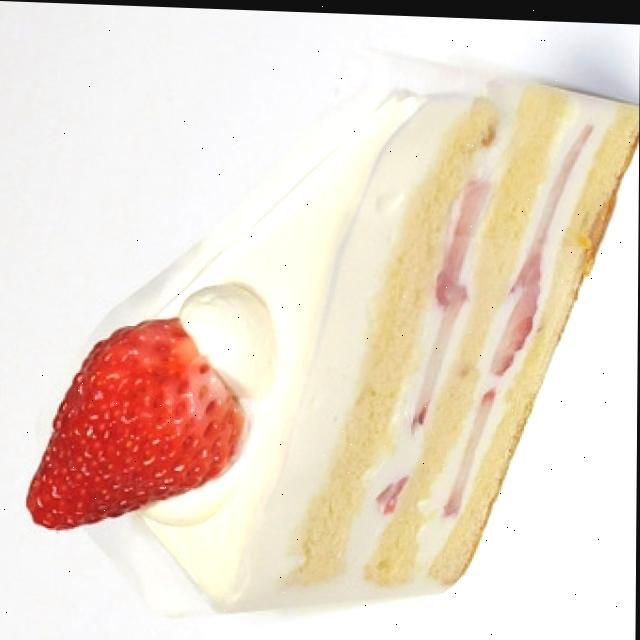蛋糕甜品: (15, 18, 640, 638)
